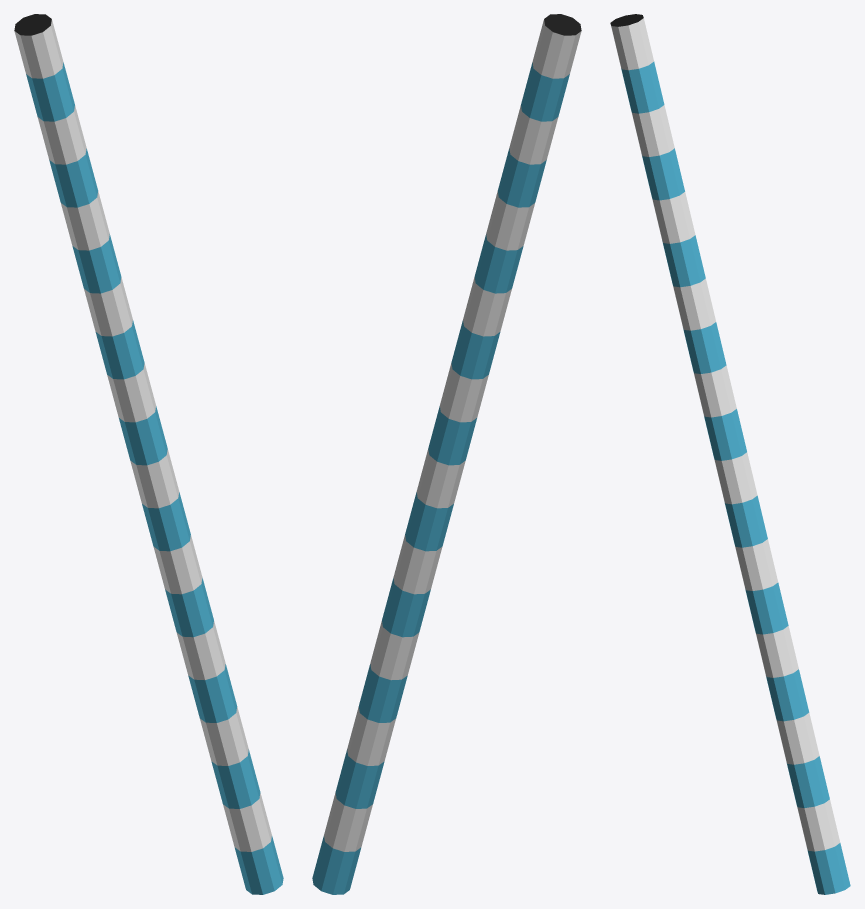
Rendered from blue_straw.glb.
3 renders of one model, left to right at view 1: azimuth 30°, elevation 25°; view 2: azimuth 150°, elevation 25°; view 3: azimuth 330°, elevation 25°, orthographic. The views are drawn at different scales.
Visible parts, largest first — view 1: Milkshake; view 2: Milkshake; view 3: Milkshake.
Part boxes in pixels (<box>): Milkshake: <box>14,14,283,894</box>; Milkshake: <box>312,14,581,894</box>; Milkshake: <box>610,14,850,894</box>.
Bounding box in the file's own units: 0.0837 × 0.281 × 0.0109.
Materials: 1 (1 with a texture image).
